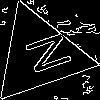N: (14, 30, 73, 80)
